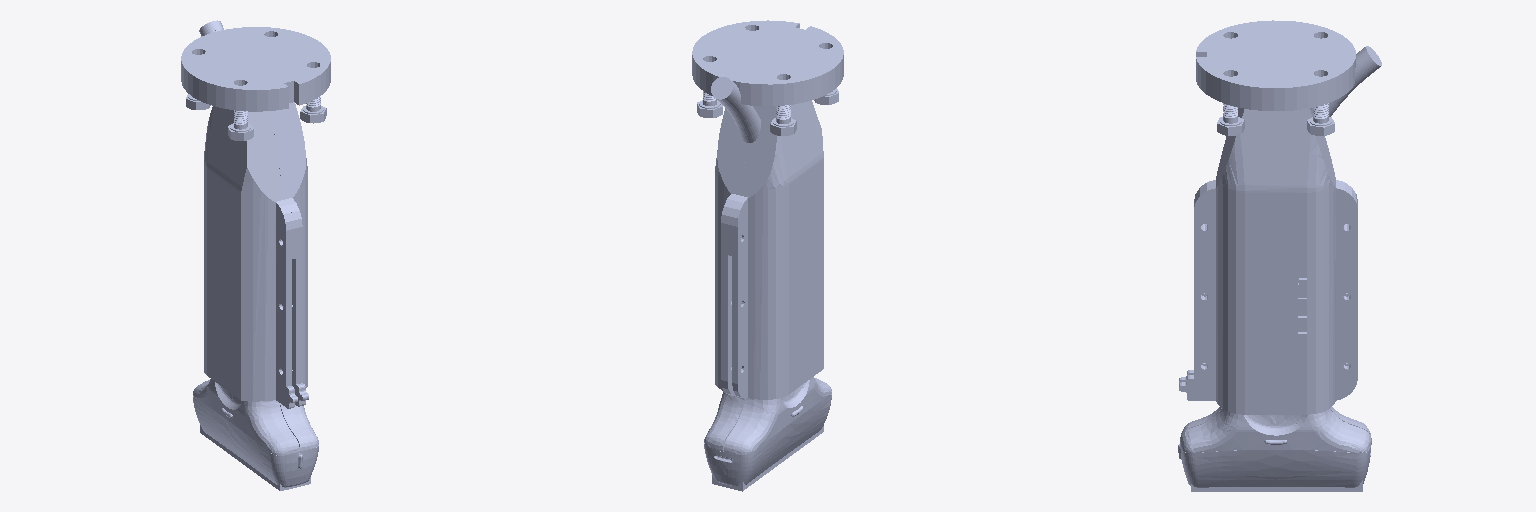
URDF robot description (Ultra_Sensor):
<?xml version="1.0" ?>
<!-- =================================================================================== -->
<!-- |    This document was autogenerated by xacro from sensor.xacro                   | -->
<!-- |    EDITING THIS FILE BY HAND IS NOT RECOMMENDED                                 | -->
<!-- =================================================================================== -->
<robot name="Ultra_Sensor" xmlns:xacro="http://www.ros.org/wiki/xacro">
  <link name="base_link">
    <inertial>
      <!-- <origin
        xyz="-0.002645 -0.076576 0.000120270000000005"
        rpy="0 0 0" /> -->
      <mass value="0.27748"/>
      <inertia ixx="0.000772393706918962" ixy="3.62561532781402E-07" ixz="-8.97669927346242E-06" iyy="-5.67458125370052E-06" iyz="-9.70334791219381E-05" izz="5.67458125370057E-06"/>
    </inertial>
    <visual>
      <origin rpy="0 0 0" xyz="0 0 0"/>
      <geometry>
        <mesh filename="package://sensor_description/meshes/Ultra_Sensor.STL"/>
      </geometry>
      <material name="">
        <color rgba="0.79216 0.81961 0.93333 0.5"/>
      </material>
    </visual>
    <collision>
      <origin rpy="0 0 0" xyz="0 0 0"/>
      <geometry>
        <mesh filename="package://sensor_description/meshes/Ultra_Sensor.STL"/>
      </geometry>
    </collision>
  </link>
  <!-- manually add conditional block (work for .xacro in Hydro) -->
  <!-- value="true" if spawned individually; 
       value="false" if spawned as the eef of ur5 -->
</robot>

--- Facts derived from the render (not from the file) ---
3 views of the same robot in one strip: view 1: azimuth 30°, elevation 25°; view 2: azimuth 150°, elevation 25°; view 3: azimuth 270°, elevation 25° (orthographic).
Robot: Ultra_Sensor — 1 links, 0 joints (none); root link base_link; default pose: all joints at 0.
Links seen in each view (by area): view 1: base_link; view 2: base_link; view 3: base_link.
Boxes of the visible links, bbox=[...] form: base_link: bbox=[181, 20, 330, 490]; base_link: bbox=[692, 20, 843, 491]; base_link: bbox=[1178, 20, 1381, 491].
Bounding box of the posed robot: 0.063 × 0.0801 × 0.1888 m (x, y, z).
1 mesh visuals loaded from 1 distinct referenced files (1 binary STL).